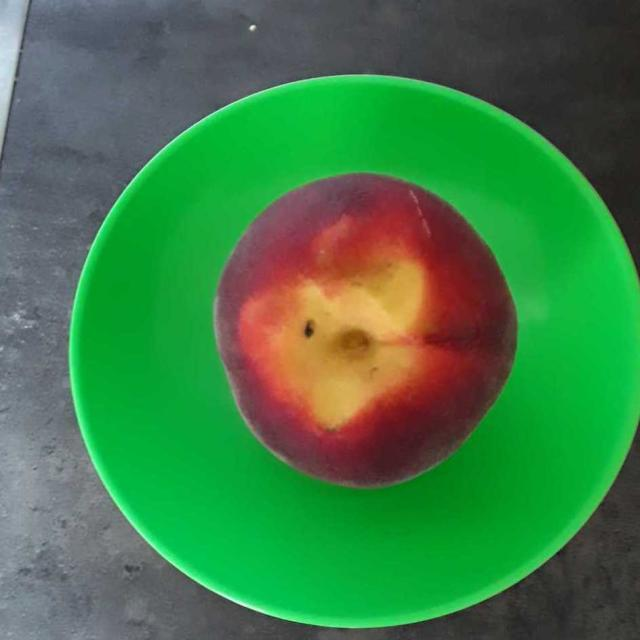peach: (221, 179, 514, 480)
